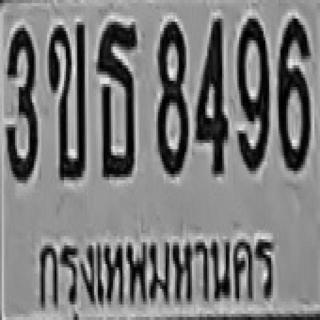A02: (47, 20, 85, 179)
A24: (96, 19, 138, 177)
N03: (4, 25, 36, 180)
N04: (194, 15, 228, 174)
N06: (277, 16, 311, 171)
N08: (156, 20, 188, 175)
N09: (236, 16, 268, 171)
P04: (32, 221, 287, 320)
